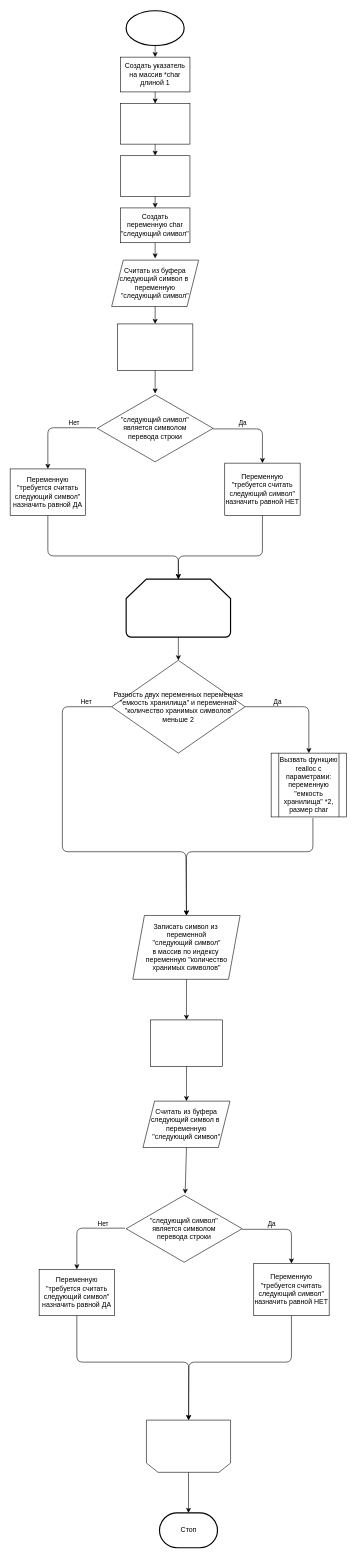
This 357x1558 diagram has some shape labels left out. Each missing label, with the centre of its shape:
Закончить цикл: point (188, 1446)
Создать переменную "емкость хранилища" равной 1: point (155, 123)
Создать переменную "количество хранимых символов" равной 0: point (155, 175)
Создать переменную "требуется считать следующий символ" равной НЕТ: point (155, 346)
Старт: point (154, 28)
Увеличить переменную "количество хранимых символов" на 1: point (186, 1042)
Цикл пока переменная "требуется считать следующий символ" равна ДА: point (178, 607)
